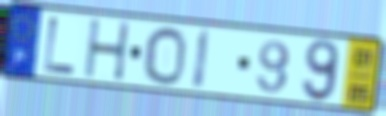9: (299, 38, 342, 104), (254, 39, 292, 95)
H: (83, 18, 133, 83)
I: (190, 26, 213, 93)
L: (41, 15, 79, 77)
O: (142, 25, 188, 87)
